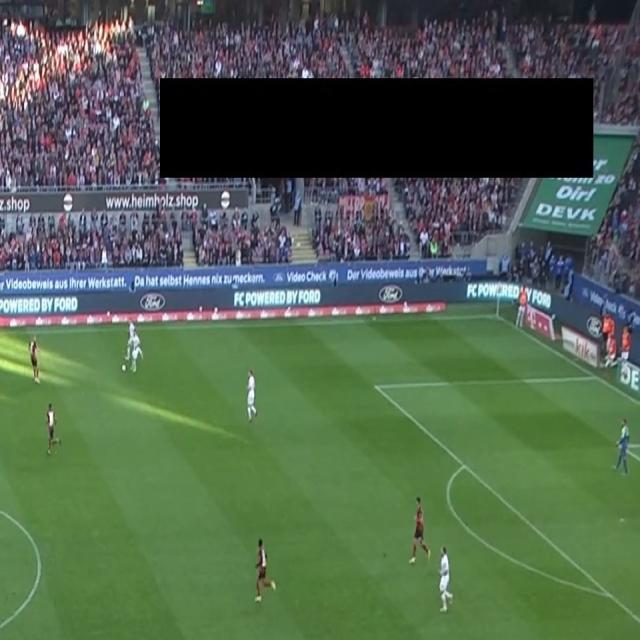ball: (122, 363, 127, 372)
